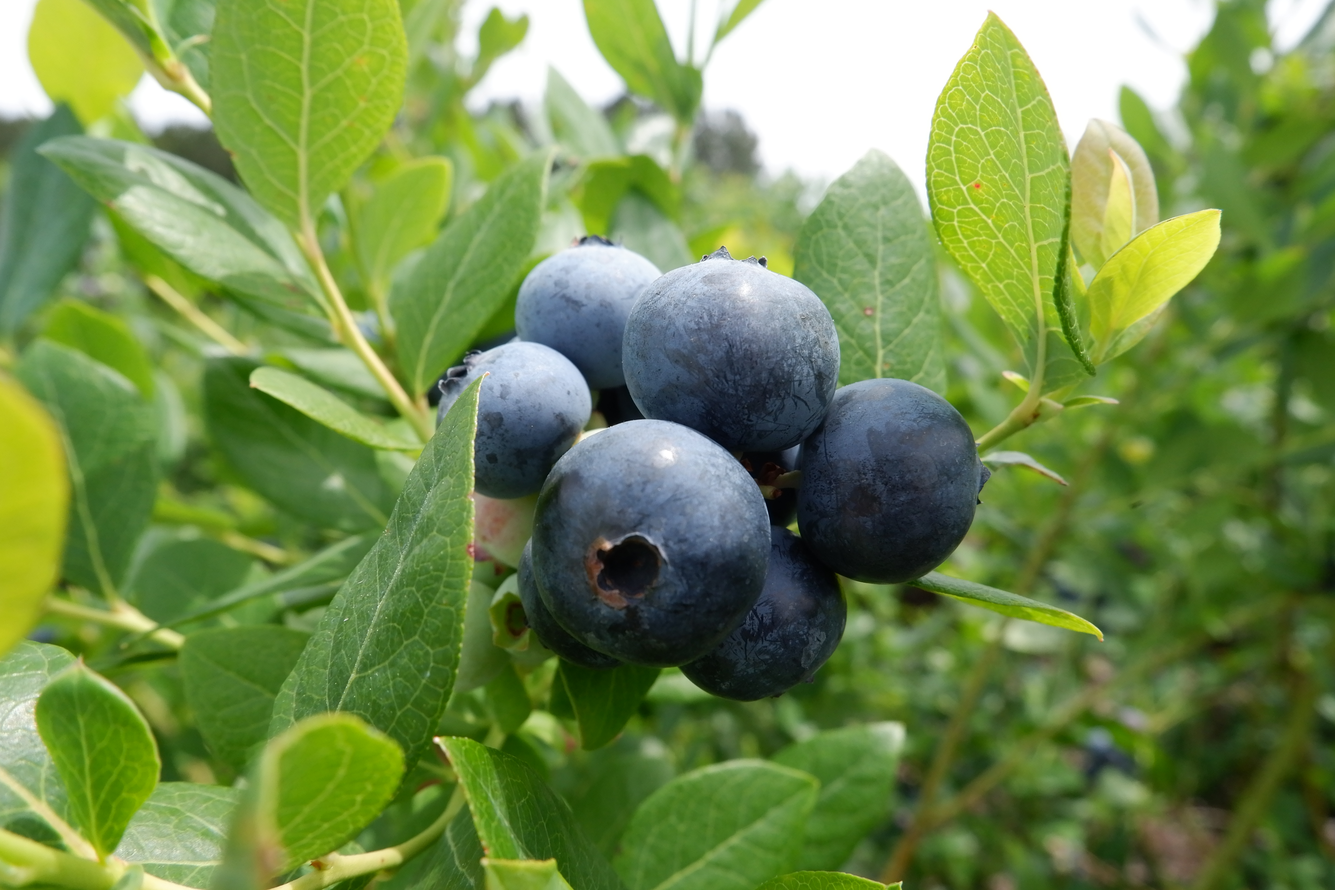Immature: (456, 581, 515, 689), (490, 567, 553, 657), (474, 493, 536, 568), (473, 558, 515, 589)
Mature: (528, 419, 770, 662), (627, 248, 837, 452), (799, 381, 981, 582), (685, 531, 841, 697), (437, 341, 590, 498), (519, 243, 659, 388), (518, 535, 614, 662), (742, 443, 801, 526)
